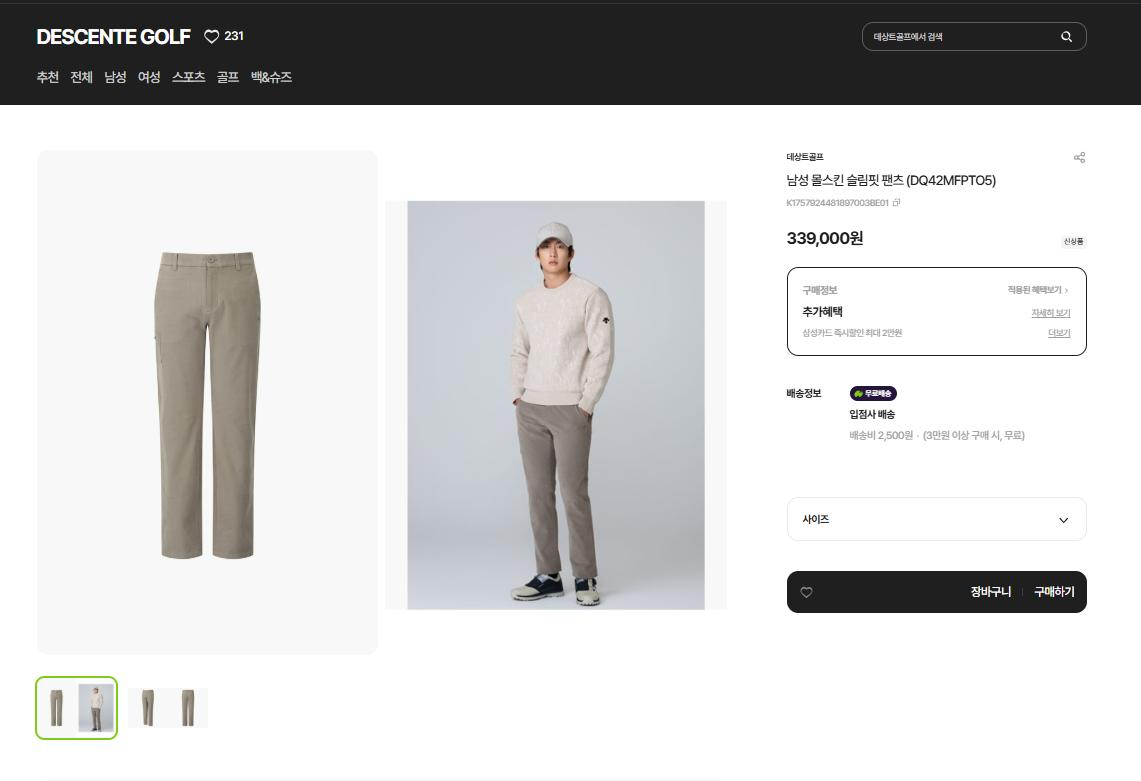button: (787, 569, 1088, 614), (250, 68, 295, 86), (204, 28, 245, 47), (171, 67, 205, 85), (135, 68, 163, 86), (214, 66, 242, 84), (104, 68, 131, 86), (32, 67, 60, 84), (66, 68, 94, 85), (1073, 147, 1089, 166)
checkbox: (782, 500, 1088, 539), (864, 20, 1088, 52)
